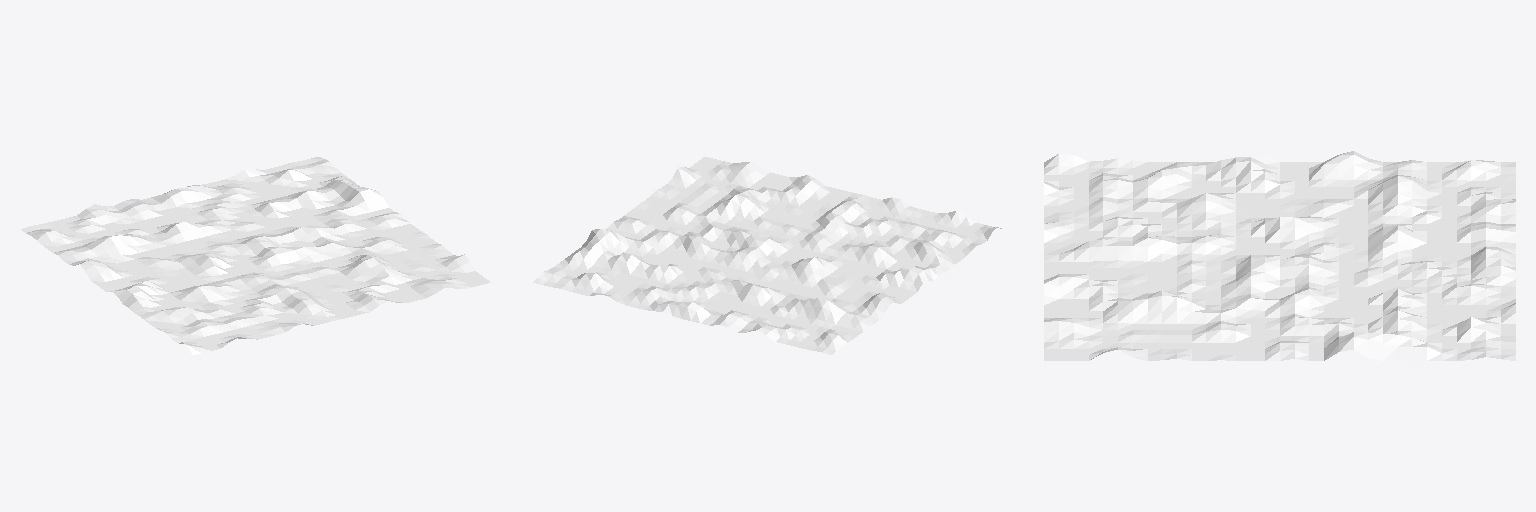
The robot description file, URDF, robot "terrain":
<?xml version="1.0" ?>
<robot name="terrain">
  <link name="terrainLink">
  <contact>
      <lateral_friction value="1"/>
  </contact>
    <inertial>
      <origin rpy="0 0 0" xyz="0 0 0"/>
       <mass value="1000.0"/>
       <inertia ixx="0" ixy="0" ixz="0" iyy="0" iyz="0" izz="0"/>
    </inertial>
    <visual>
      <origin rpy="0 0 0" xyz="0 0 0"/>
      <geometry>
        <mesh filename="data/temp/terrain_noise.obj" scale="1 1 1"/>
		    <!-- <mesh filename="data/character/terrain_2.obj" scale="1 1 1"/> -->
        <!-- <mesh filename="terrain.obj" scale="1 1 1"/> -->
      </geometry>
       <material name="white">
        <color rgba="1 1 1 1"/>
      </material>
    </visual>
		<collision concave="yes">
      <origin rpy="0 0 0" xyz="0 0 0"/>
      <geometry>
        <mesh filename="data/temp/terrain_noise.obj" scale="1 1 1"/>
		    <!-- <mesh filename="data/character/terrain_2.obj" scale="1 1 1"/> -->
        <!-- <mesh filename="terrain.obj" scale="1 1 1"/> -->
      </geometry>
    </collision>
  </link>
</robot>

--- Facts derived from the render (not from the file) ---
The picture shows the robot from 3 angles, left to right: view 1: azimuth 30°, elevation 25°; view 2: azimuth 150°, elevation 25°; view 3: azimuth 270°, elevation 25°; orthographic projection.
Model terrain with 1 links and 0 joints (none), rooted at terrainLink, posed all joints at 0.
Links seen in each view (by area): view 1: terrainLink; view 2: terrainLink; view 3: terrainLink.
Boxes of the visible links, <box> form: terrainLink: <box>21,157,490,354</box>; terrainLink: <box>533,157,1001,354</box>; terrainLink: <box>1044,151,1515,360</box>.
Size in the robot's own frame: 24 by 24 by 1 metres.
1 mesh visuals loaded from 1 distinct referenced files (1 OBJ).